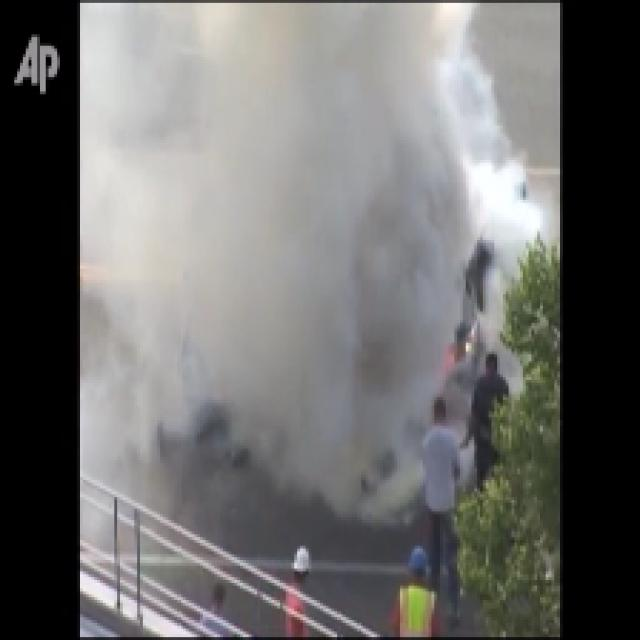smoke: (133, 21, 450, 436)
